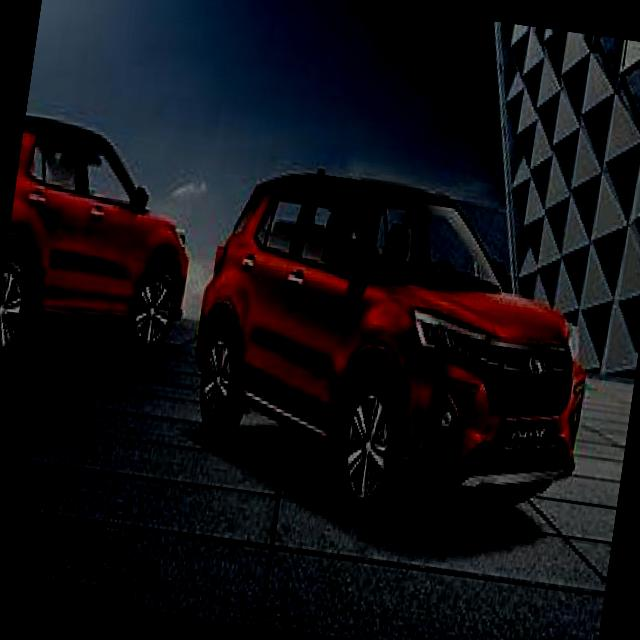PeroduaAtiva: (174, 152, 614, 546)
